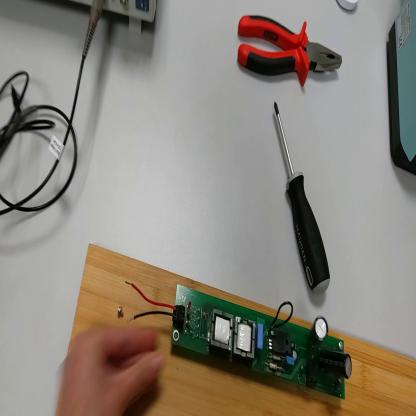hand: (55, 323, 165, 414)
high voltage board: (127, 283, 355, 400)
oscilloscope: (24, 3, 160, 34)
oscilloscope probe tip: (2, 102, 39, 158)
pliers: (237, 11, 344, 91)
screwdriver-: (274, 102, 333, 297)
welder station: (388, 3, 416, 176)
working area: (56, 243, 416, 416)
